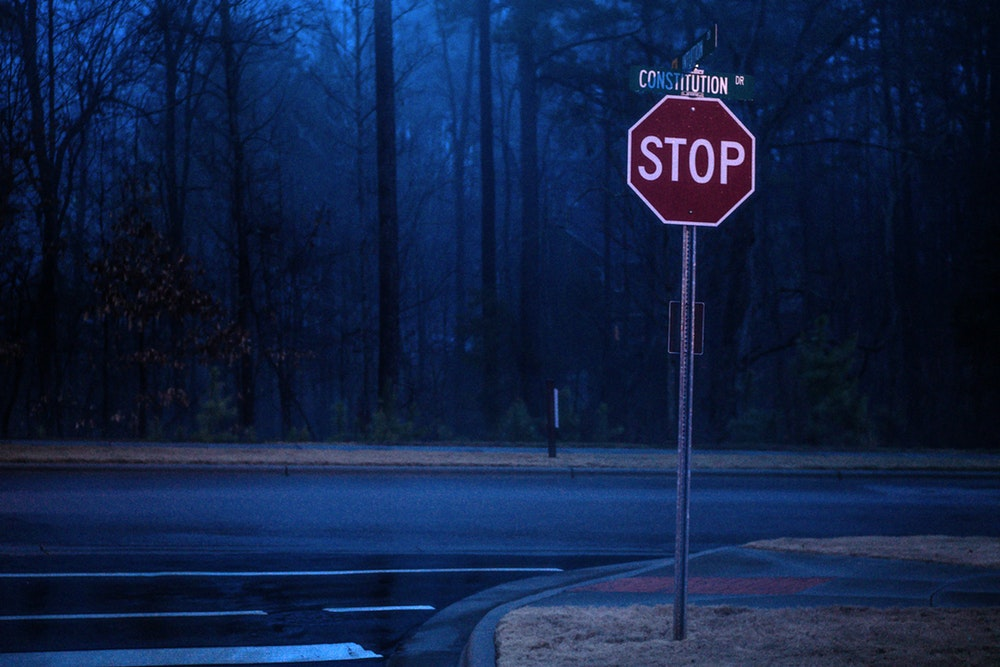stopsign: (628, 97, 758, 227)
